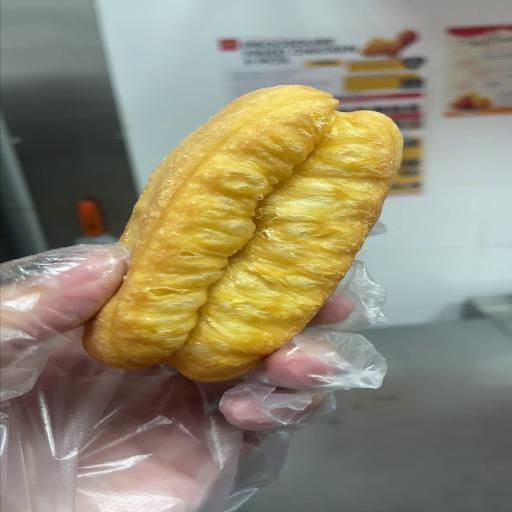brand_golden_good: (82, 85, 402, 382)
